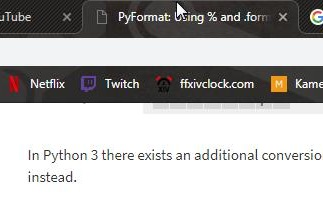cursor: (175, 1, 187, 20)
